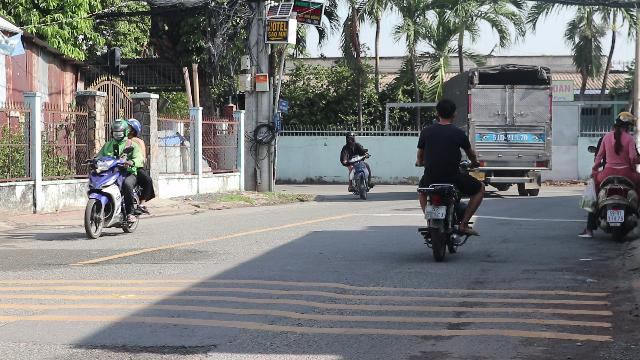helmet: (434, 98, 458, 122), (612, 110, 636, 132), (109, 118, 127, 140), (126, 118, 142, 138)
licenseplate: (425, 206, 445, 219), (608, 210, 624, 222)
motorcyclist: (412, 97, 484, 260), (80, 117, 154, 239), (579, 109, 639, 241)
